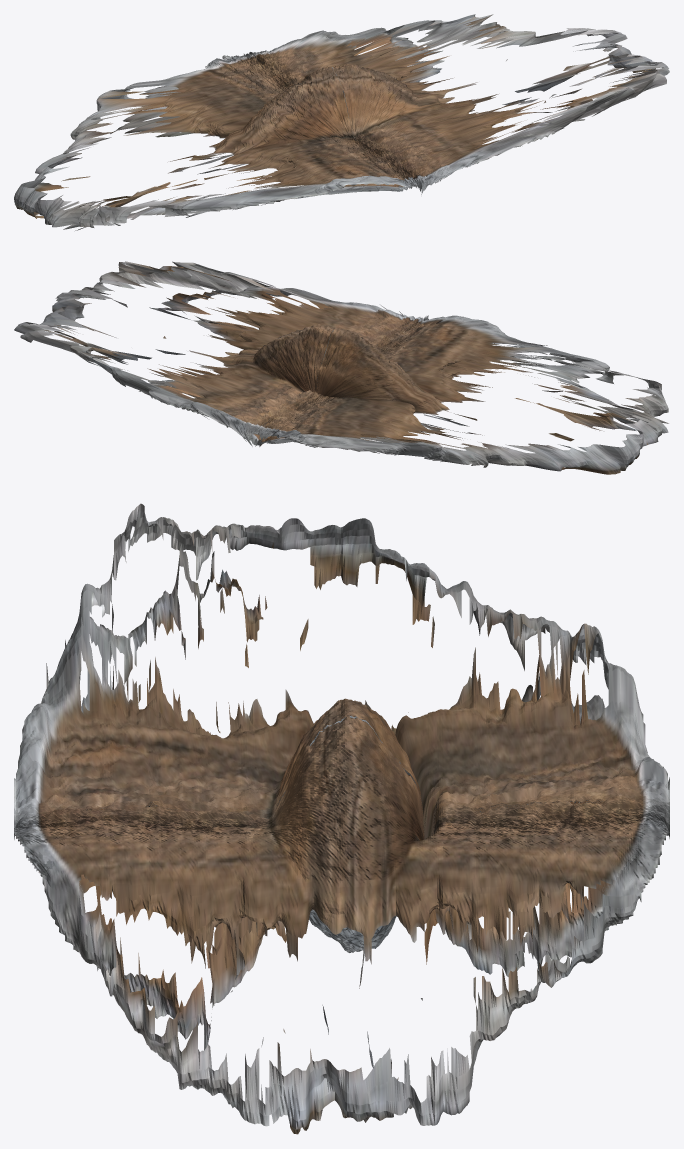
3 renders of one model, top to bottom at view 1: azimuth 30°, elevation 25°; view 2: azimuth 150°, elevation 25°; view 3: azimuth 270°, elevation 25°, orthographic. The views are drawn at different scales.
Parts seen in each view (by area): view 1: geometry_0; view 2: geometry_0; view 3: geometry_0.
Part boxes in pixels (<box>): geometry_0: <box>14,14,669,230</box>; geometry_0: <box>14,261,668,474</box>; geometry_0: <box>14,503,669,1134</box>.
Bounding box in the file's own units: 1.99 × 0.3497 × 0.9423.
1 material, 1 textured.
